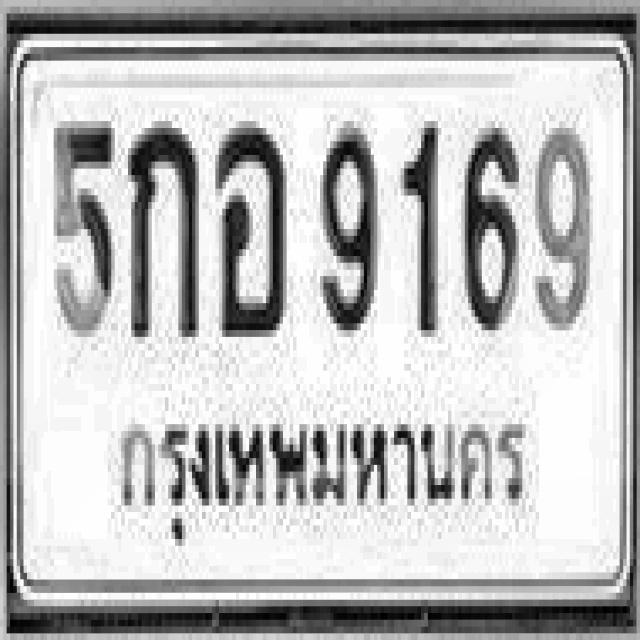license-plate: (11, 34, 634, 600)
